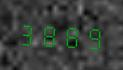eight: (39, 18, 59, 49), (60, 19, 80, 50)
nine: (81, 21, 101, 52)
three: (18, 17, 38, 48)
